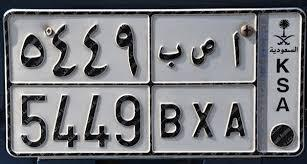4: (51, 23, 80, 149), (82, 23, 110, 148)
5: (20, 32, 48, 149)
9: (114, 23, 142, 147)
A: (223, 31, 246, 139)
B: (158, 43, 182, 139)
X: (191, 38, 216, 140)
